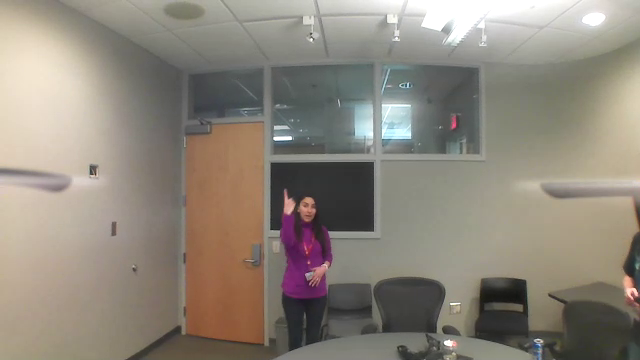up: (279, 183, 296, 216)
